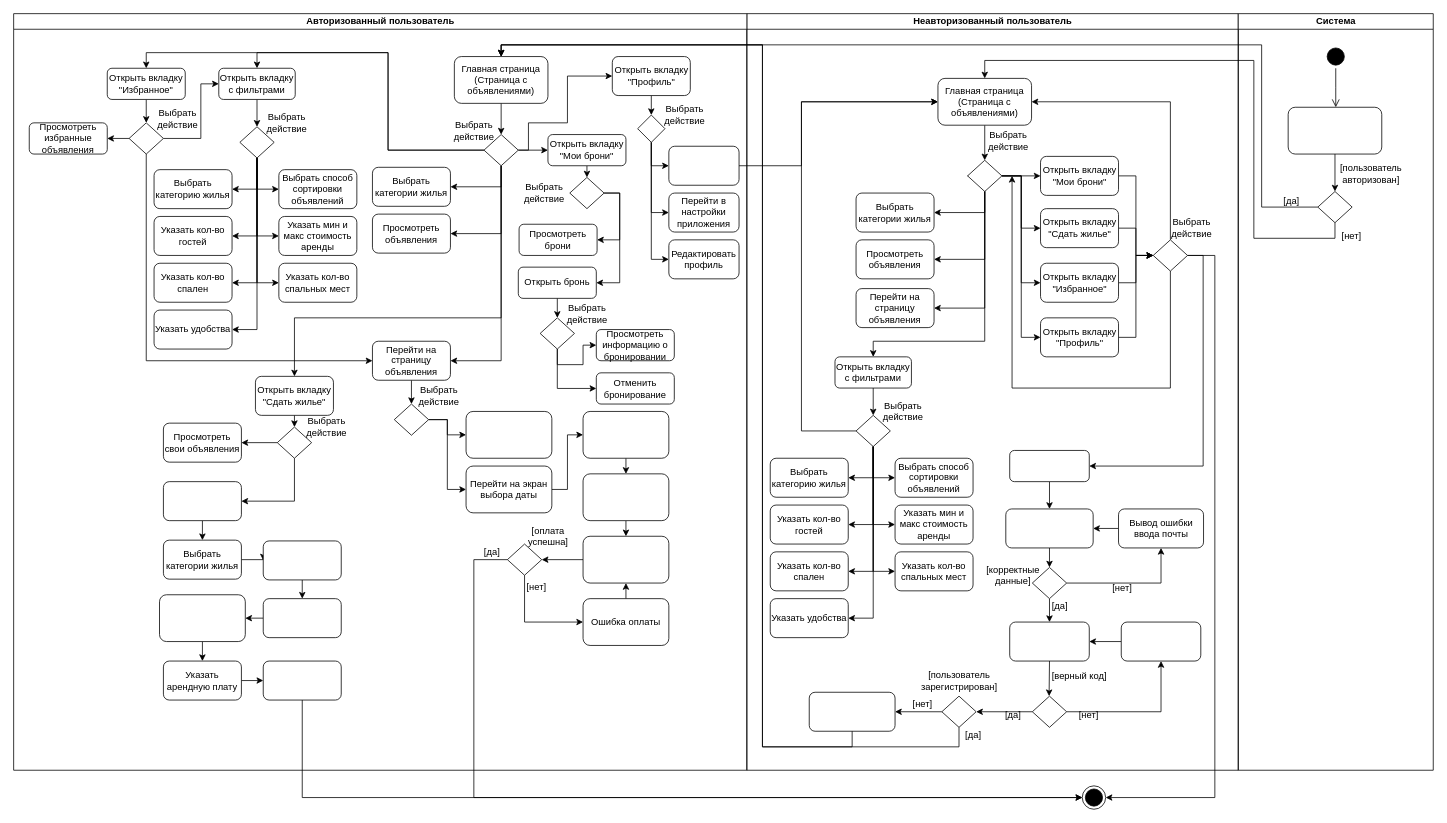
Image size: 1447x823. Some labels were removed from this diagram. The centre of each missing label's shape, as x and y in pixels:
Авторизоваться: point 1049,466
Выбрать свободные даты: point 625,434
Вывод ошибки ввода кода: point 1160,641
Выйти из аккаунта: point 703,165
Добавить описание или сгенерировать с AI: point 202,618
Загрузить фотографии: point 301,618
Открыть приложение: point 1334,130
Отправить на модерацию: point 301,680
Подтвердить бронирование: point 625,497
Произвести оплату: point 625,559
Просмотреть подробную информацию объявления: point 508,434
Разместить новое объявление: point 202,501
Страница ввода кода: point 1049,641
Страница ввода почты: point 1049,528
Указать основную информацию: point 301,560
Экран ввода имени и фамилии: point 851,711
